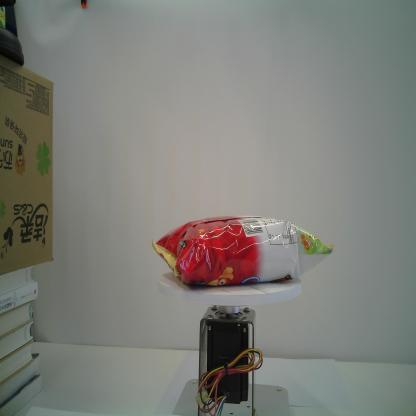Puffed Food: (151, 215, 335, 288)
